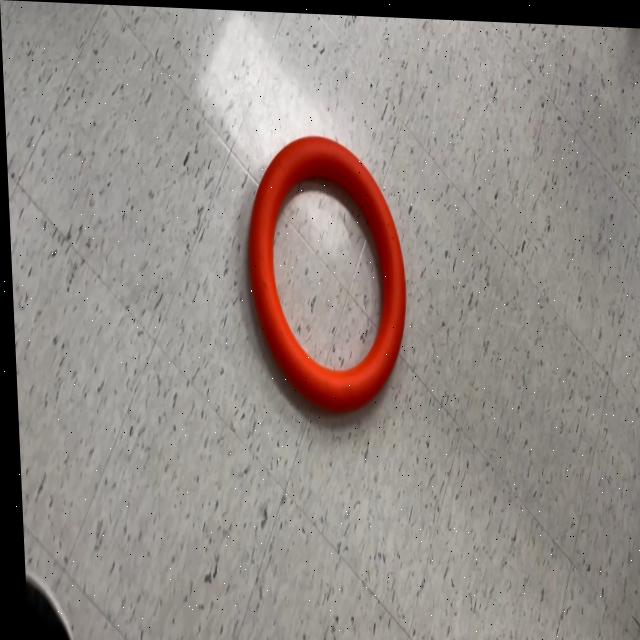note: (242, 130, 409, 416)
